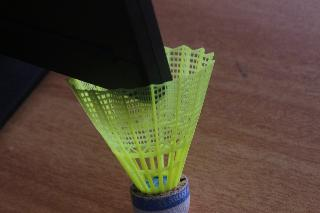shuttlecock: (66, 47, 215, 211)
